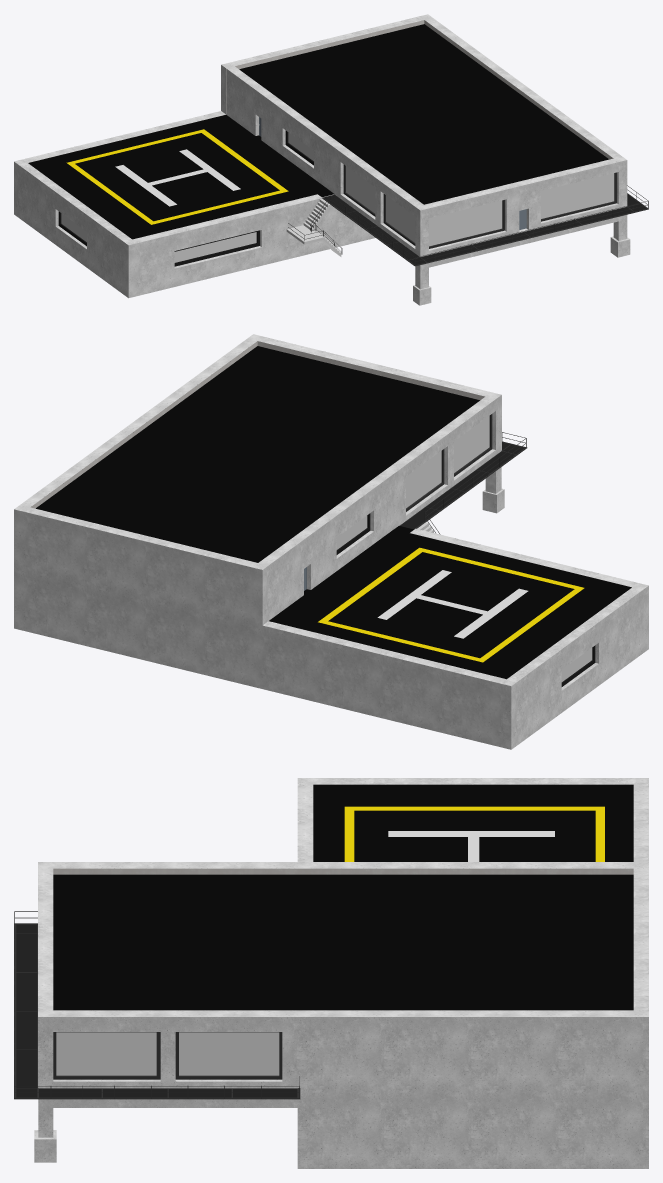
File: military-hq.access-v3.lod0.glb
The picture shows the model from 3 angles, top to bottom: view 1: azimuth 30°, elevation 25°; view 2: azimuth 150°, elevation 25°; view 3: azimuth 270°, elevation 25°; orthographic projection. The views are drawn at different scales.
Parts seen in each view (by area): view 1: Walls_Floor_2_0, Walls_Outer_Walls_0, Railing_Railing_0, Walls_Inner_walls_0; view 2: Walls_Floor_2_0, Walls_Outer_Walls_0, Walls_Inner_walls_0, Railing_Railing_0; view 3: Walls_Floor_2_0, Walls_Outer_Walls_0, Railing_Railing_0, Walls_Inner_walls_0.
Part boxes in pixels (x1,y1,x2,y2): Walls_Floor_2_0: (28, 24, 646, 266); Walls_Outer_Walls_0: (14, 14, 630, 305); Railing_Railing_0: (288, 164, 648, 266); Walls_Inner_walls_0: (50, 20, 613, 159); Walls_Floor_2_0: (36, 346, 631, 686); Walls_Outer_Walls_0: (14, 334, 648, 749); Walls_Inner_walls_0: (30, 341, 631, 587); Railing_Railing_0: (399, 414, 527, 534); Walls_Floor_2_0: (16, 784, 633, 1097); Walls_Outer_Walls_0: (34, 778, 648, 1168); Railing_Railing_0: (14, 911, 300, 1099); Walls_Inner_walls_0: (53, 868, 633, 874).
Bounding box in the file's own units: 40.21 × 8.91 × 33.7.
6 materials, 4 textured.
